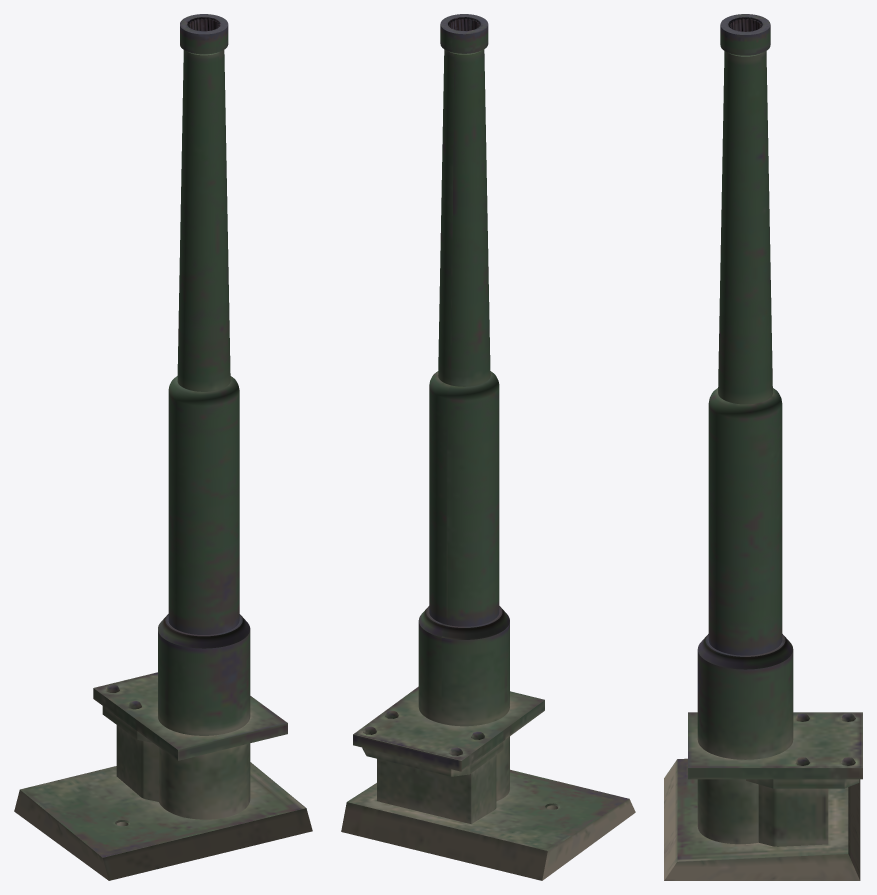
File: Gun_02.glb
3 renders of one model, left to right at view 1: azimuth 30°, elevation 25°; view 2: azimuth 150°, elevation 25°; view 3: azimuth 270°, elevation 25°, orthographic. The views are drawn at different scales.
Visible parts, largest first — view 1: set_0_group_0; view 2: set_0_group_0; view 3: set_0_group_0.
Boxes of the visible parts, x1,y1,x2,y2 form: set_0_group_0: [14, 14, 312, 880]; set_0_group_0: [341, 14, 635, 880]; set_0_group_0: [664, 14, 862, 880].
Bounding box in the file's own units: 0.358 × 1.33 × 0.2927.
1 material, 1 textured.
